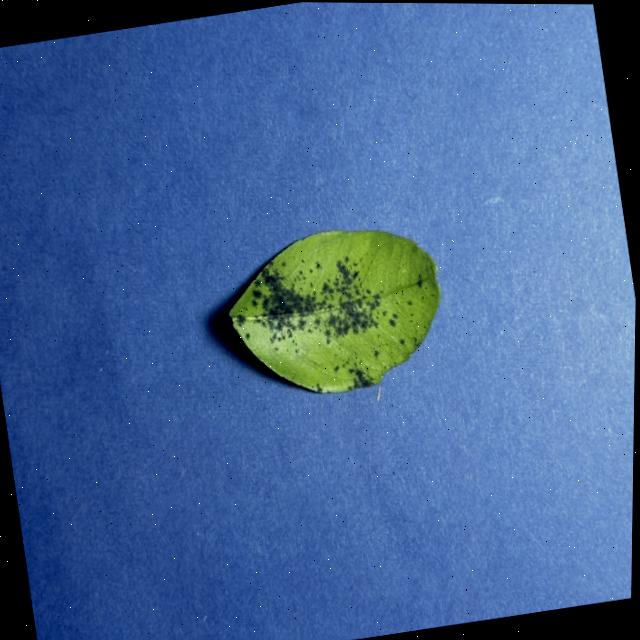sooty_mold: (230, 230, 440, 391)
